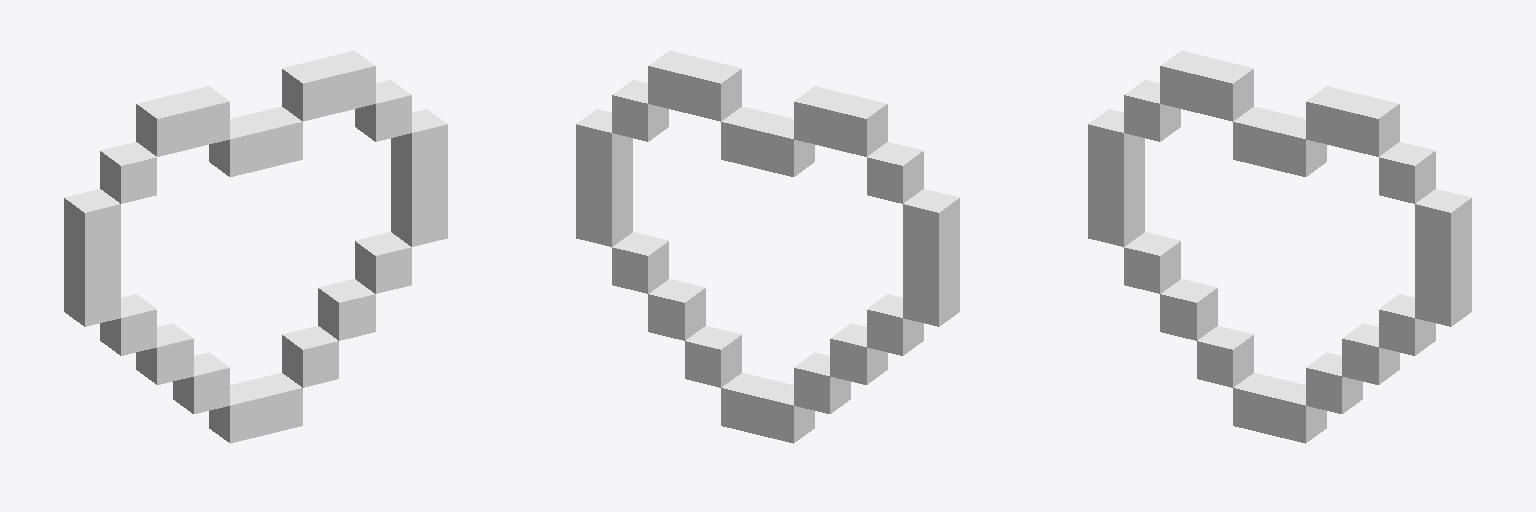
File: contour.obj
3 renders of one model, left to right at view 1: azimuth 30°, elevation 25°; view 2: azimuth 150°, elevation 25°; view 3: azimuth 330°, elevation 25°, orthographic.
Parts seen in each view (by area): view 1: object 1; view 2: object 1; view 3: object 1.
Part boxes in pixels (x1,y1,x2,y2): object 1: (64,51,447,443); object 1: (576,51,959,443); object 1: (1088,51,1471,443).
Size of the model in its own units: 1 by 0.9 by 0.1.